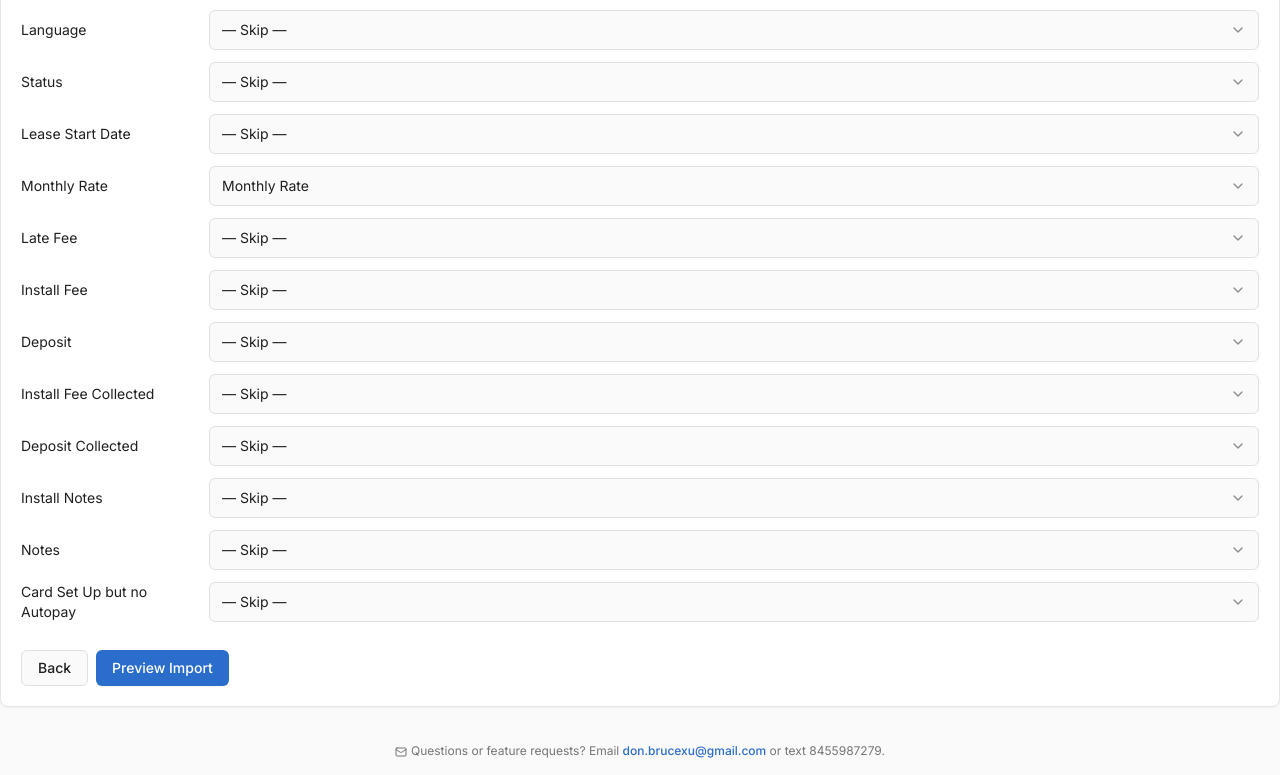
Scenario: ImportPage › imports blank mapped renter financial fields with operator settings defaults
Earlier steps of the test are not shown.
Later steps or results of the test are not shown.
(page scrolled)
Click the button "Preview Import" at point(162, 668), box left=96, top=650, right=229, bottom=686
(page scrolled)
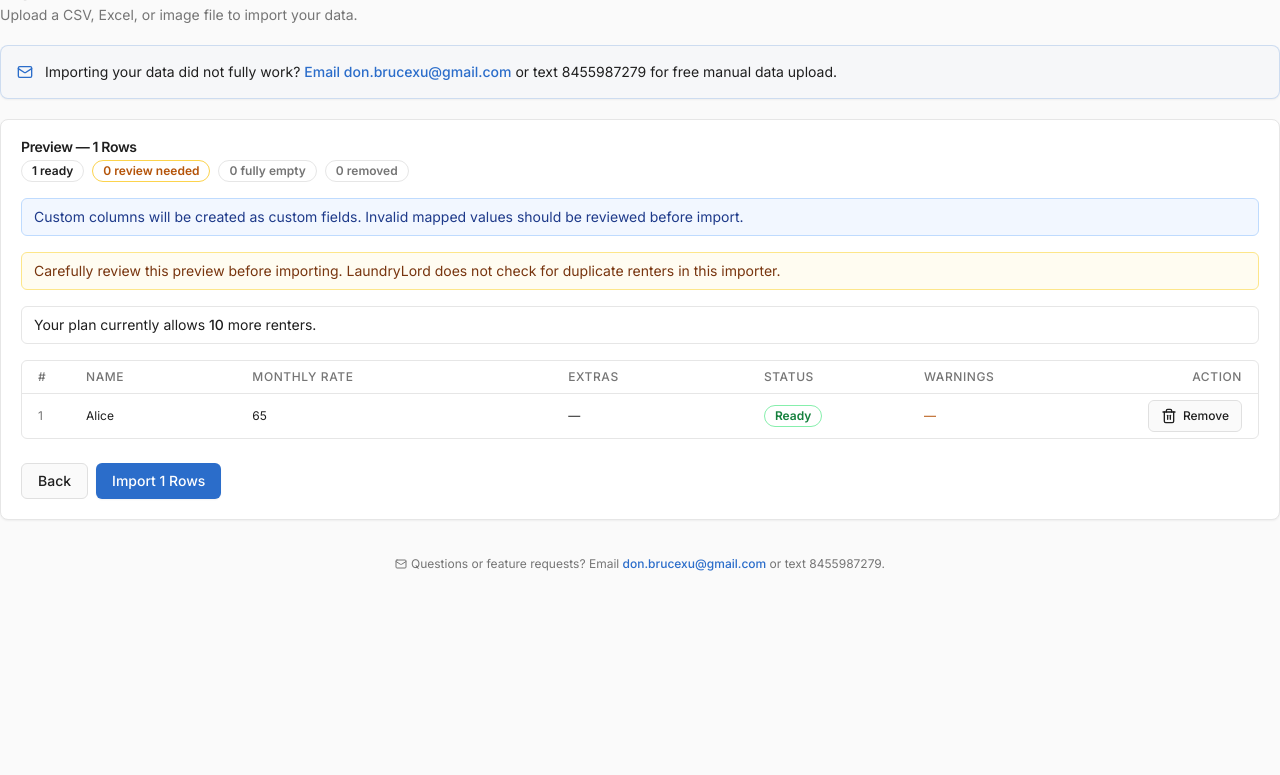
Now the text "Alice" is shown, box left=70, top=393, right=236, bottom=438
Click the button "Import 1 Rows" at point(159, 480), box left=96, top=462, right=221, bottom=498
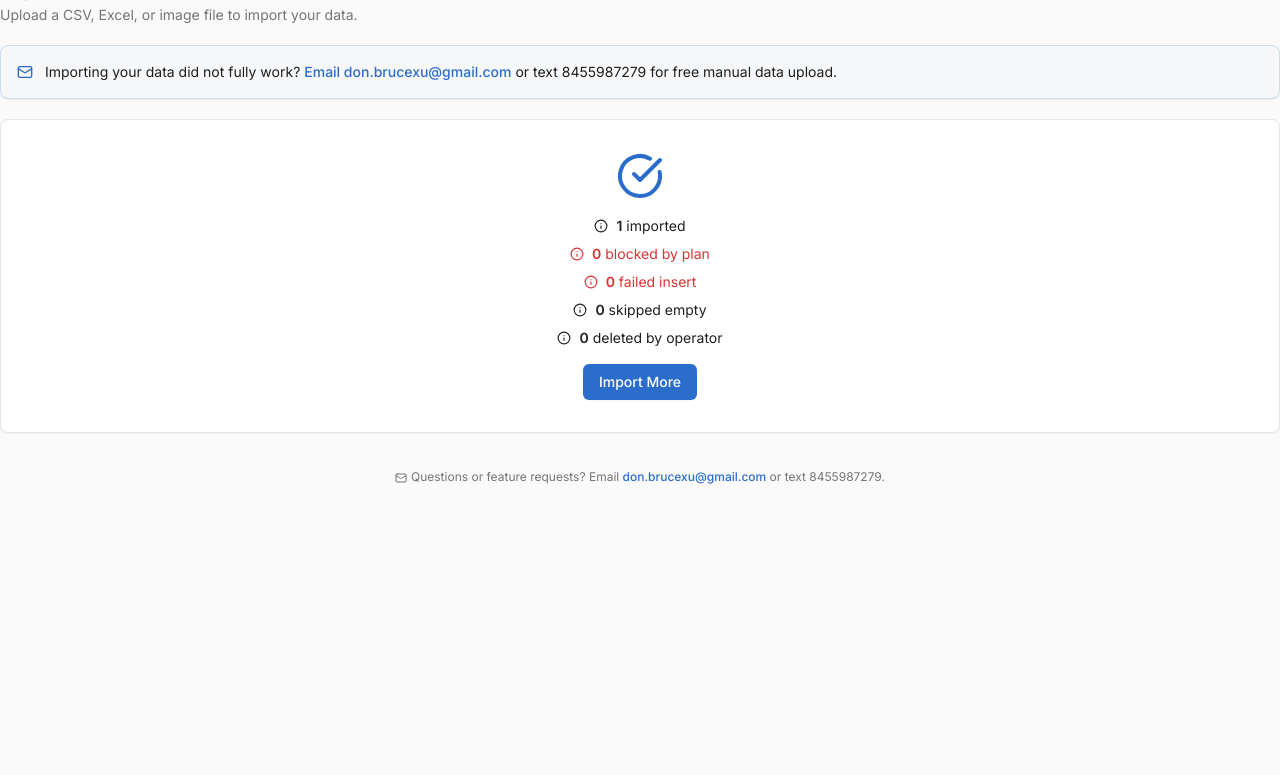
Now the button "Import More" is shown, box left=583, top=364, right=697, bottom=400
